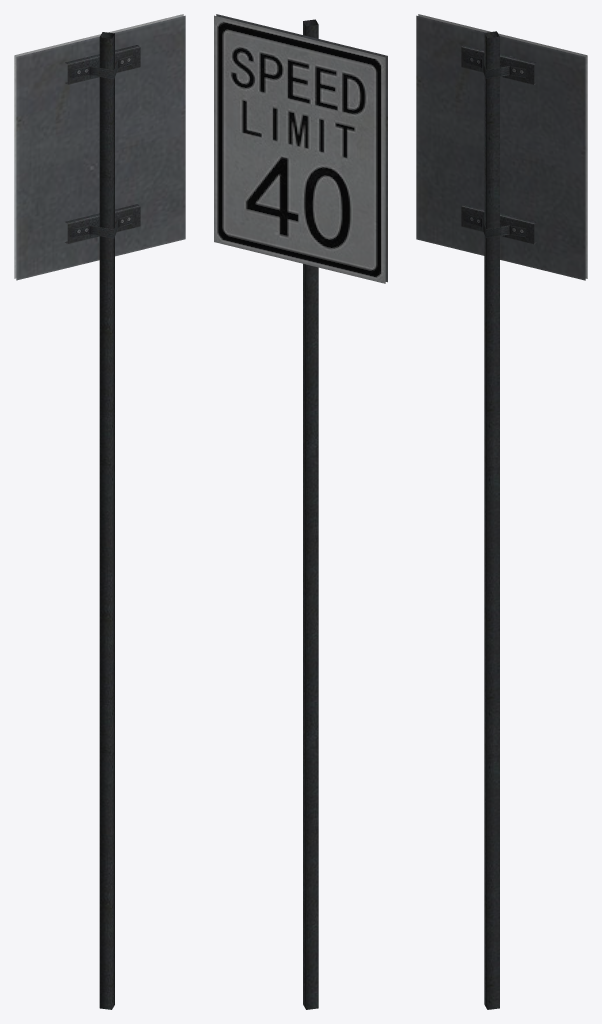
The model's file is Speed_Limit_-_40_mph.glb.
3 views of the same model, side by side, from view 1: azimuth 30°, elevation 25°; view 2: azimuth 150°, elevation 25°; view 3: azimuth 330°, elevation 25° (orthographic).
Visible parts, largest first — view 1: Speed_Limit_40mph__LOD1; view 2: Speed_Limit_40mph__LOD1; view 3: Speed_Limit_40mph__LOD1.
Boxes of the visible parts, x1,y1,x2,y2 form: Speed_Limit_40mph__LOD1: (14,14,185,1009); Speed_Limit_40mph__LOD1: (214,14,387,1009); Speed_Limit_40mph__LOD1: (416,14,587,1009).
Size of the model in its own units: 0.546 by 2.99 by 0.0909.
Materials: 1 (1 with a texture image).
